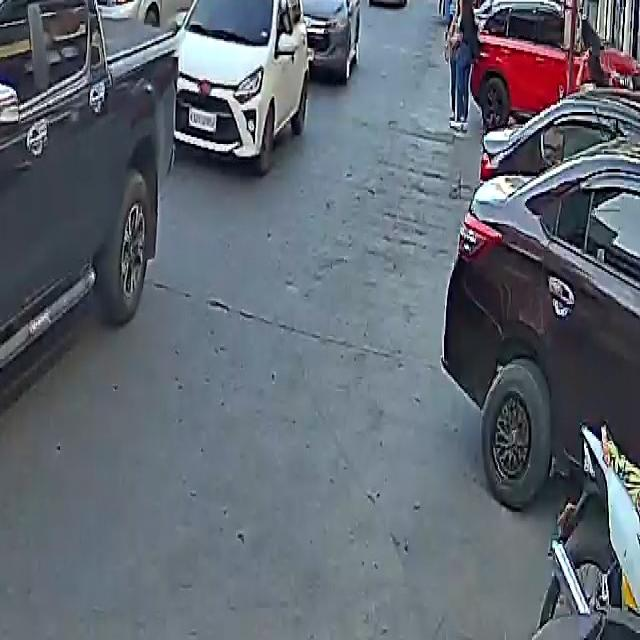car: (0, 0, 197, 590), (443, 57, 640, 540), (168, 0, 315, 167), (464, 0, 637, 130), (283, 0, 363, 80), (79, 0, 208, 28), (368, 0, 410, 7)
